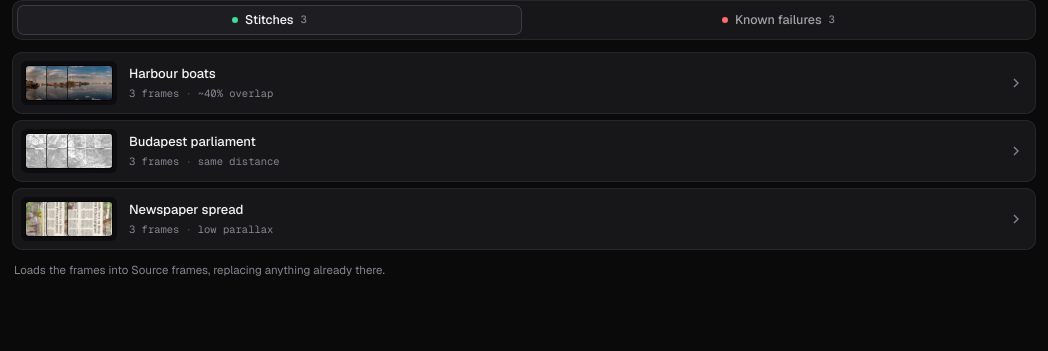
Test case: ExampleGallery › rejects a 200 response that is not an image
This screenshot has width=1048, height=351.
Click the button "Harbour boats 3 frames · ~40% overlap". click: (69, 83)
box: [12,52,1036,114]
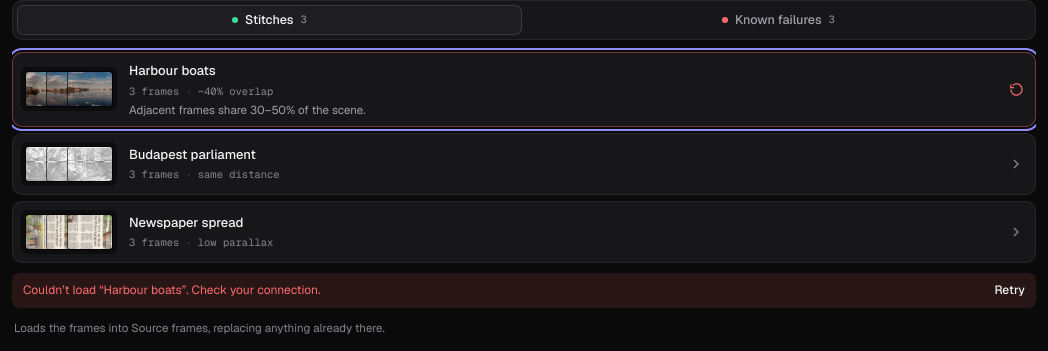
Expected: the message "Couldn’t load “Harbour boats”. Check your connection. Retry" is shown, [12,273,1036,308]
